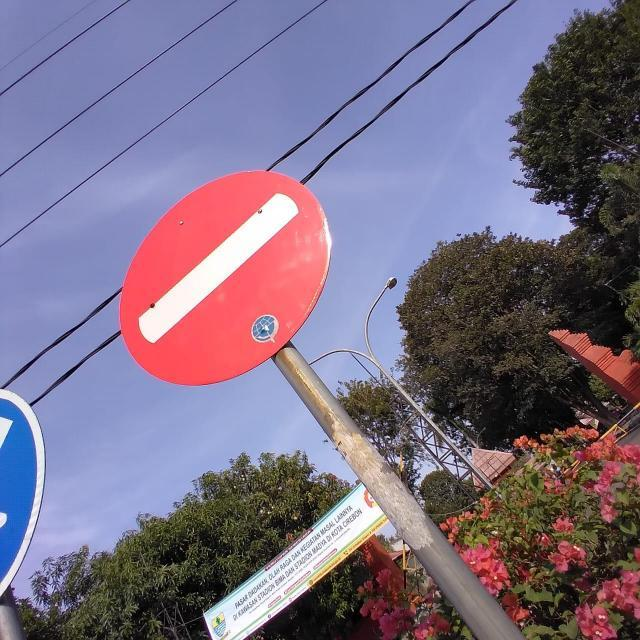traffic sign: (118, 172, 325, 383)
